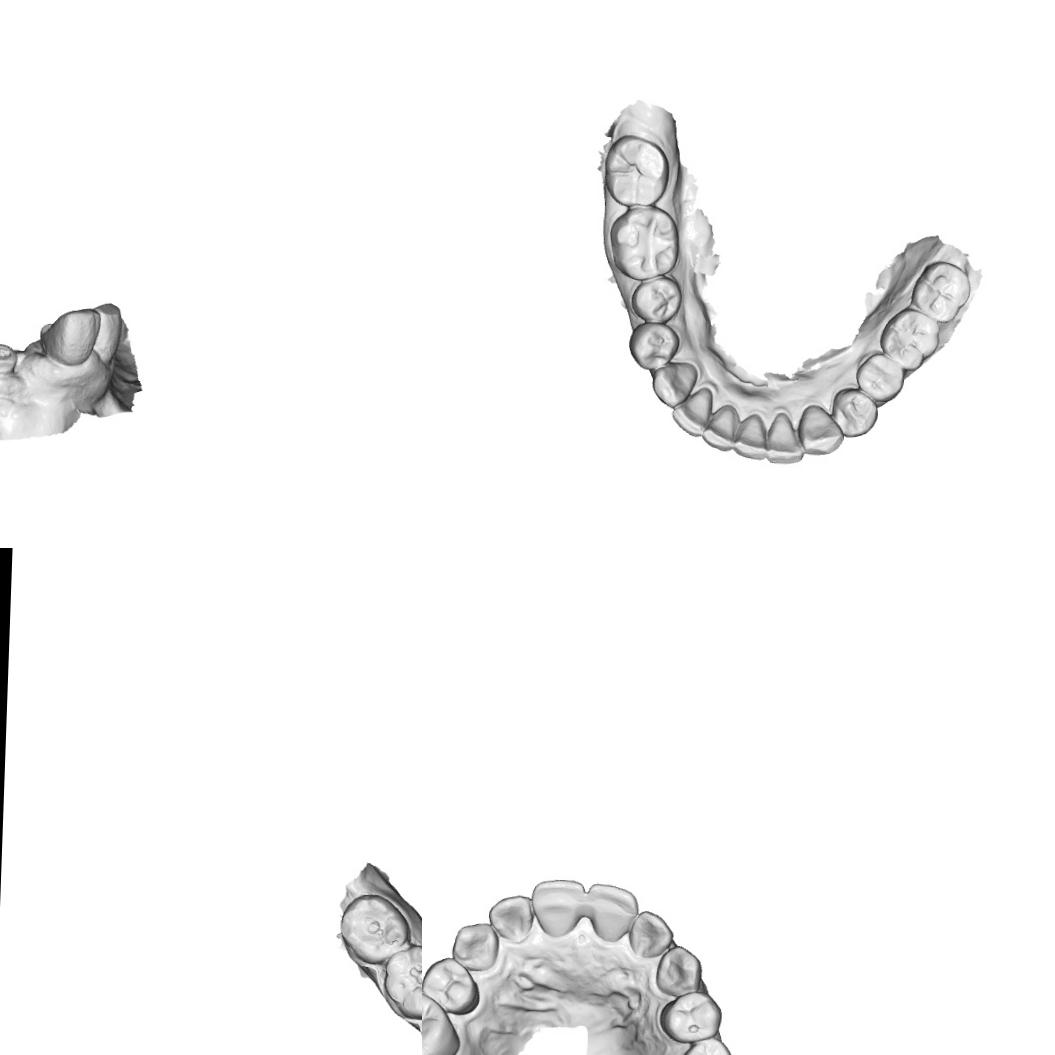canine: (449, 920, 501, 974), (654, 943, 704, 997), (796, 403, 845, 457), (650, 359, 699, 410)
implant_minus: (0, 341, 19, 376)
incisor: (38, 304, 102, 369), (530, 874, 586, 940), (585, 882, 641, 945), (486, 891, 536, 944), (628, 908, 676, 960), (670, 386, 714, 438), (765, 412, 805, 466), (700, 402, 739, 454), (733, 412, 768, 462)
molar: (607, 202, 681, 283), (336, 890, 410, 966), (603, 132, 672, 208), (878, 305, 942, 372), (909, 260, 972, 323), (381, 942, 422, 1021), (422, 989, 463, 1055)
premolar: (658, 988, 724, 1044), (422, 955, 481, 1017), (628, 273, 684, 324), (626, 321, 681, 371), (854, 351, 905, 403), (830, 386, 879, 438), (676, 1034, 735, 1055)
